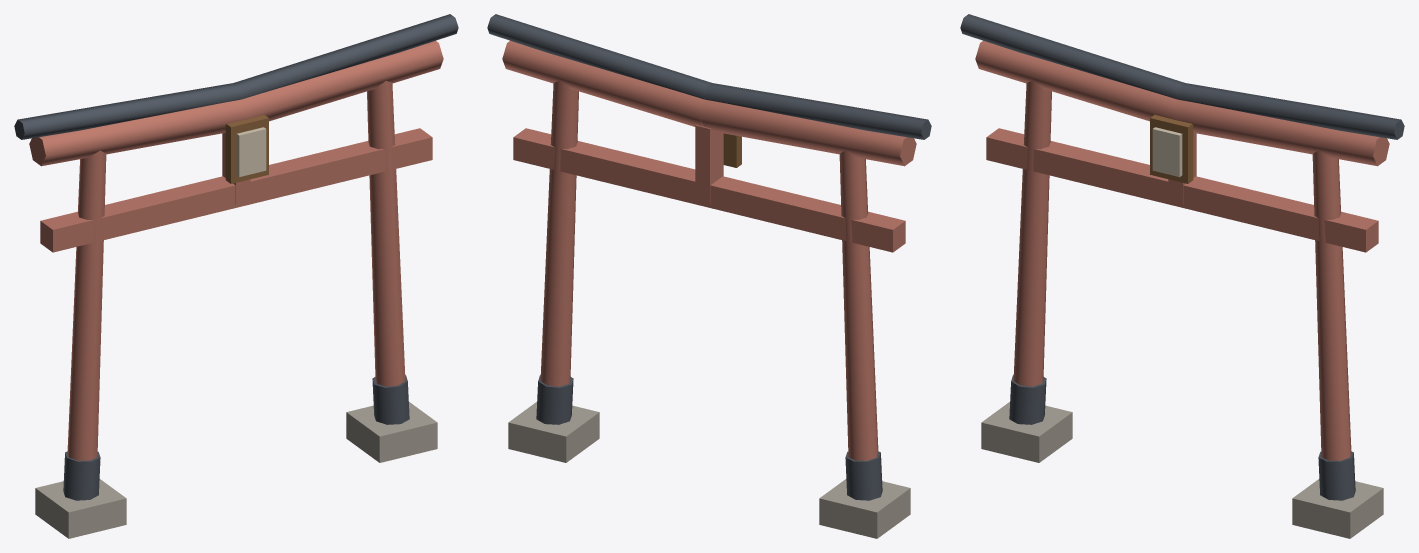
File: komachi-torii.glb
3 views of the same model, side by side, from view 1: azimuth 30°, elevation 25°; view 2: azimuth 150°, elevation 25°; view 3: azimuth 330°, elevation 25° (orthographic).
Visible parts, largest first — view 1: Torii_Gate; view 2: Torii_Gate; view 3: Torii_Gate.
Boxes of the visible parts, x1,y1,x2,y2 form: Torii_Gate: (14,14,458,538); Torii_Gate: (487,14,931,538); Torii_Gate: (960,14,1404,538).
Bounding box in the file's own units: 1.2 × 1.09 × 0.16.
